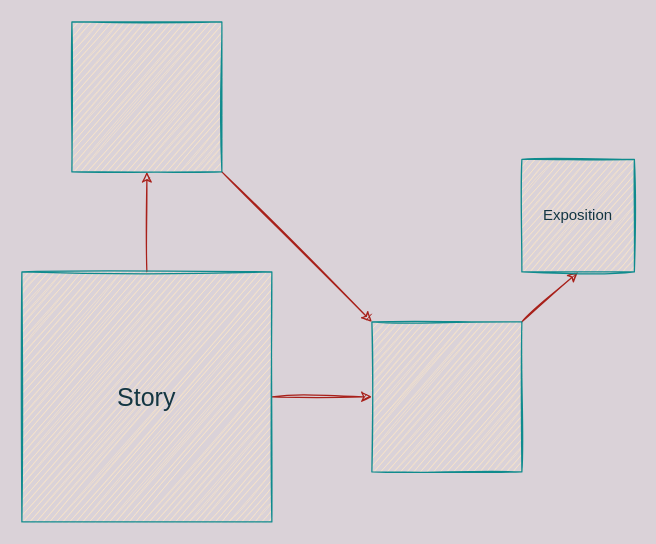
The diagram is 656 pixels wide and 544 high, and some of its shapes have lost their labels. The centre of each missing label's shape, as x and y in pixels:
"Over-arching story" belongs at point 446,396.
"Zone story" belongs at point 146,96.
